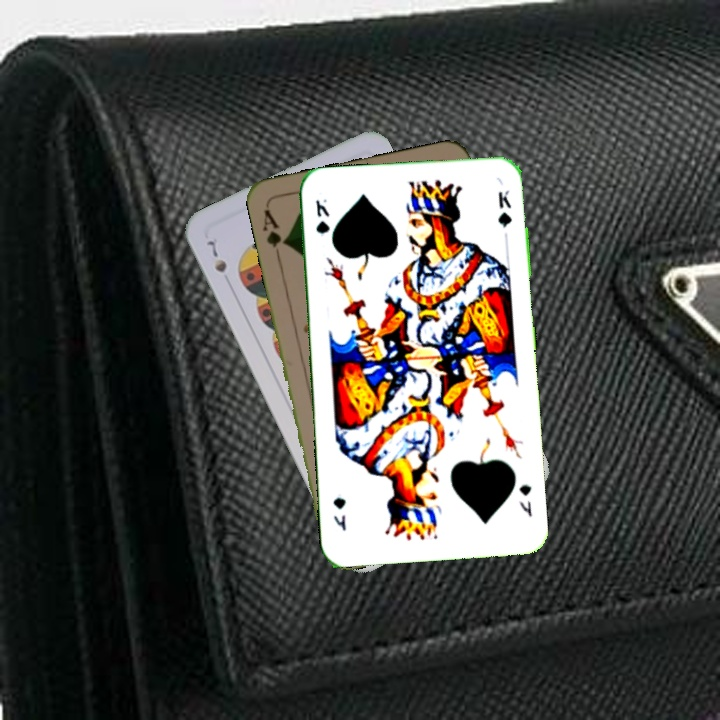GA: (259, 205, 290, 262)
GK: (311, 195, 332, 239), (515, 480, 535, 519)
S7: (202, 236, 230, 276)
